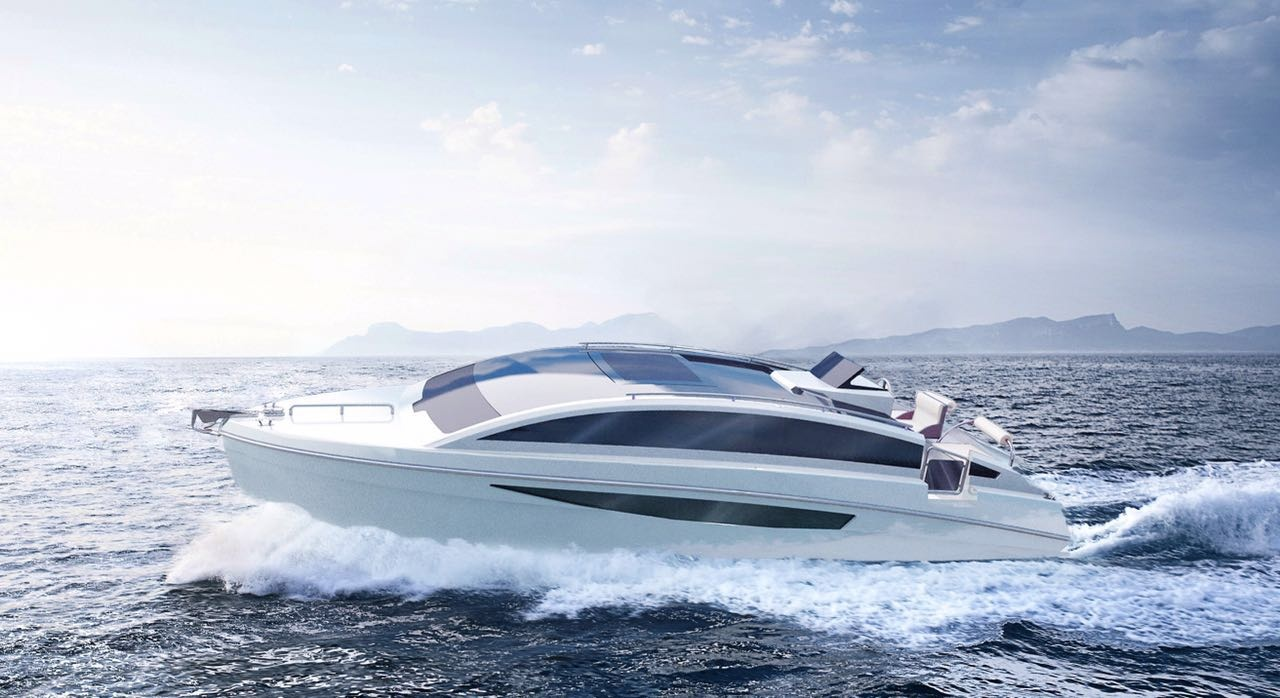yacht: (192, 336, 1058, 586)
